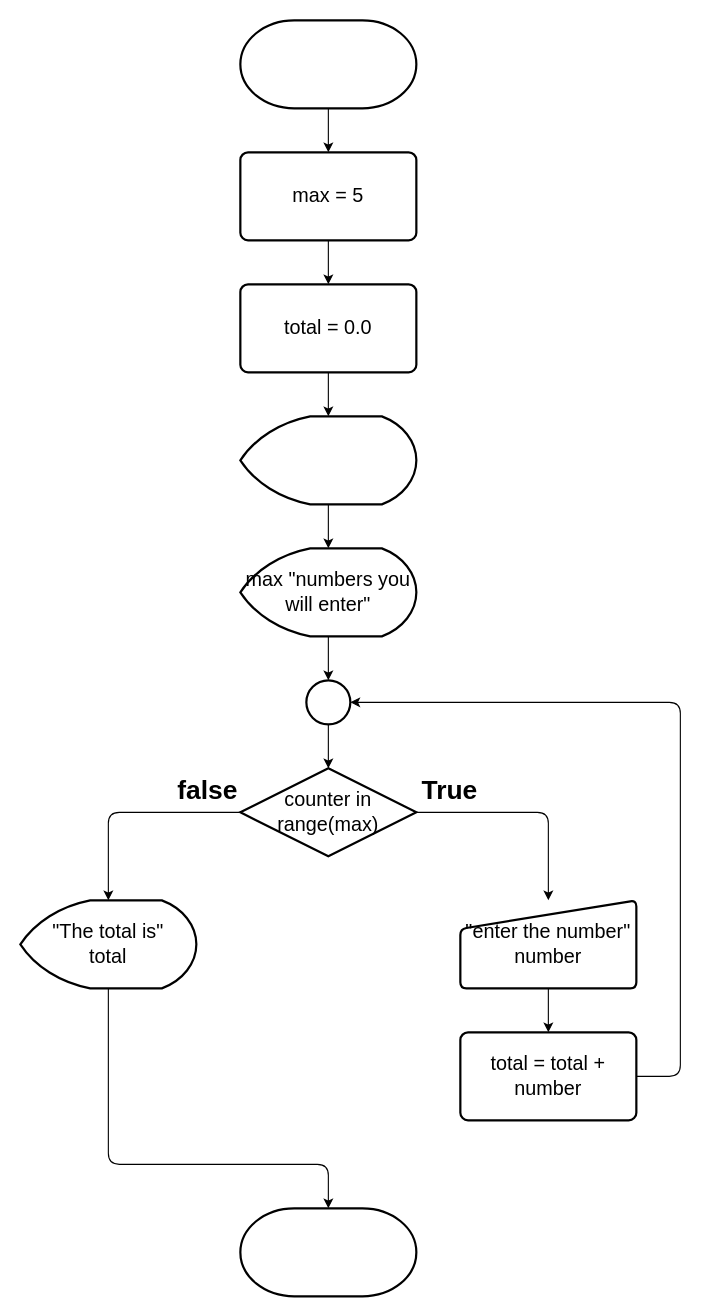
This 708x1316 diagram has some shape labels left out. The centre of each missing label's shape, as x and y in pixels:
End: [328,1252]
Start: [328,64]
This program calculates the sum of: [328,460]
